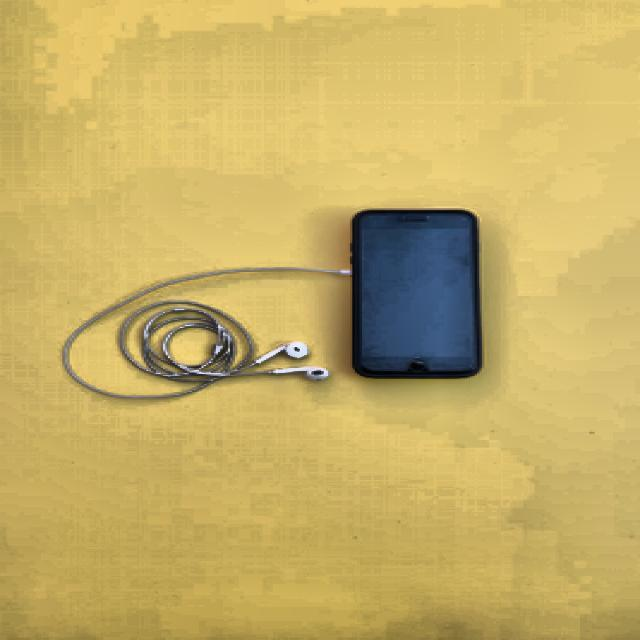Phone: (348, 208, 482, 379)
